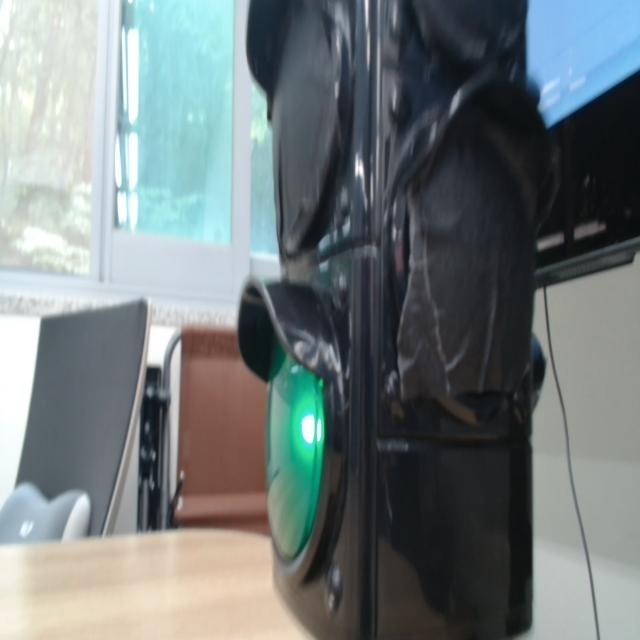green_light: (267, 345, 324, 559)
